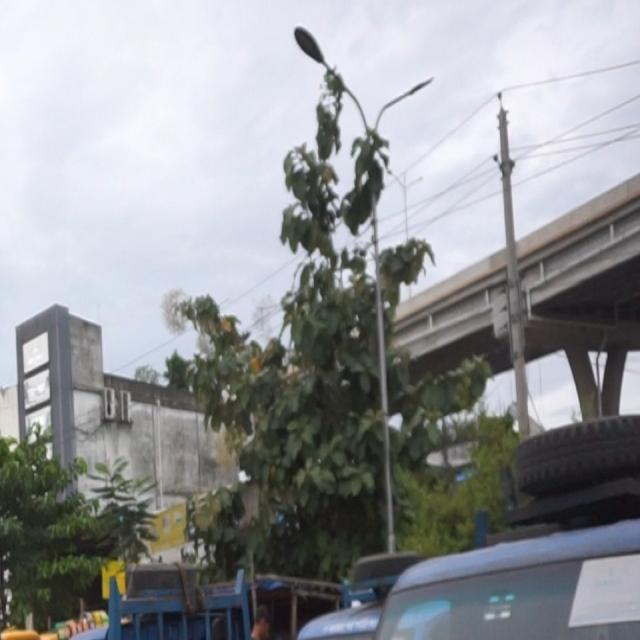van: (298, 487, 640, 640), (14, 518, 353, 640)
